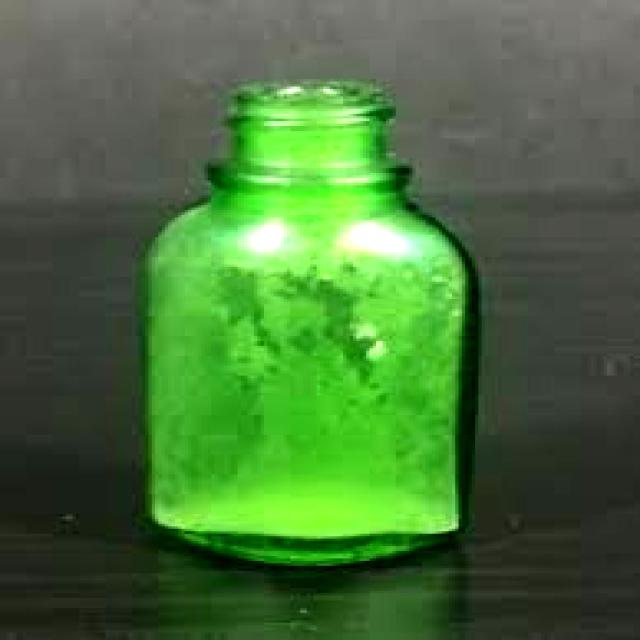Glass: (140, 74, 482, 577)
